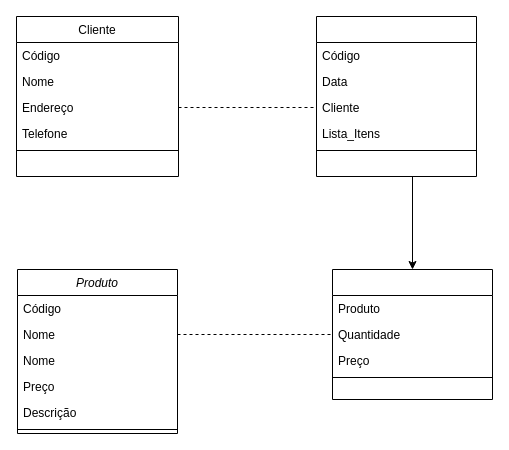
The diagram is 509 pixels wide and 450 high, and some of its shapes have lost their labels. The shapes that lost their labels are listed below. From the top down, each one's box as (x1, y1, x2, y2) in pixels, then its label:
(316, 16, 476, 176): Pedido
(332, 268, 492, 400): Item_Pedido
